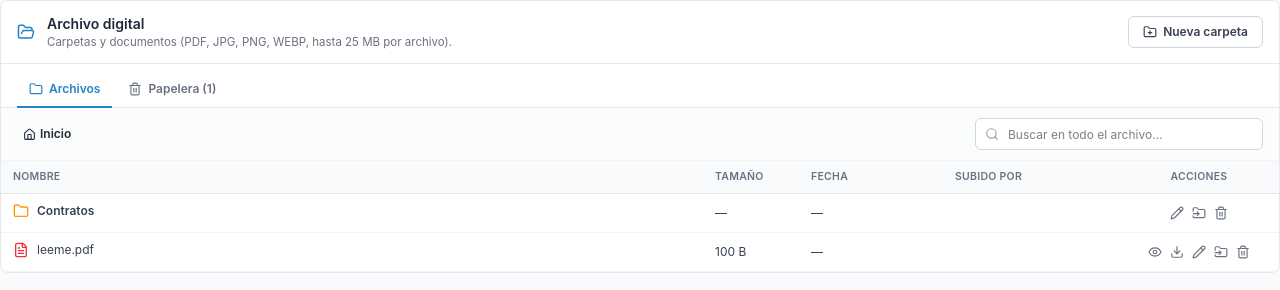
it: ArchivoDigital › papelera y permisos: sin eliminar definitivo solo se ve Restaurar; sin subir no aparece el botón
The width and height of the screenshot is (1280, 290).
Click the tab "Papelera (1)": (172, 90) x1=116 y1=72 x2=228 y2=108
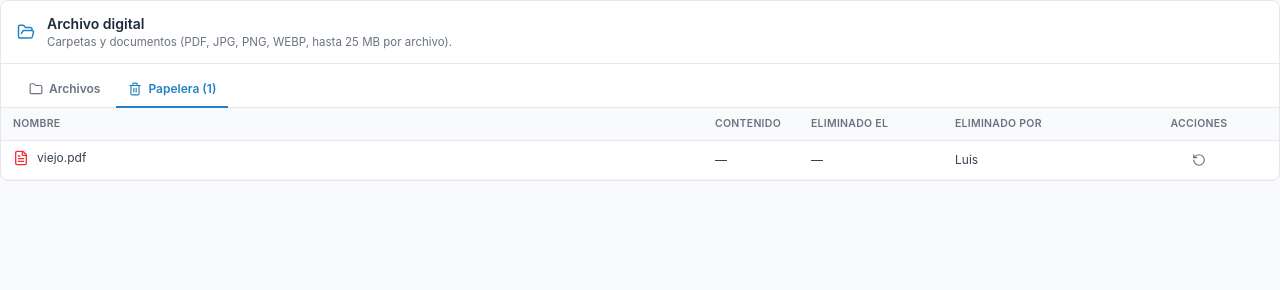
expect the button named "Restaurar viejo.pdf" is shown: met, box x1=1188 y1=148 x2=1210 y2=170
